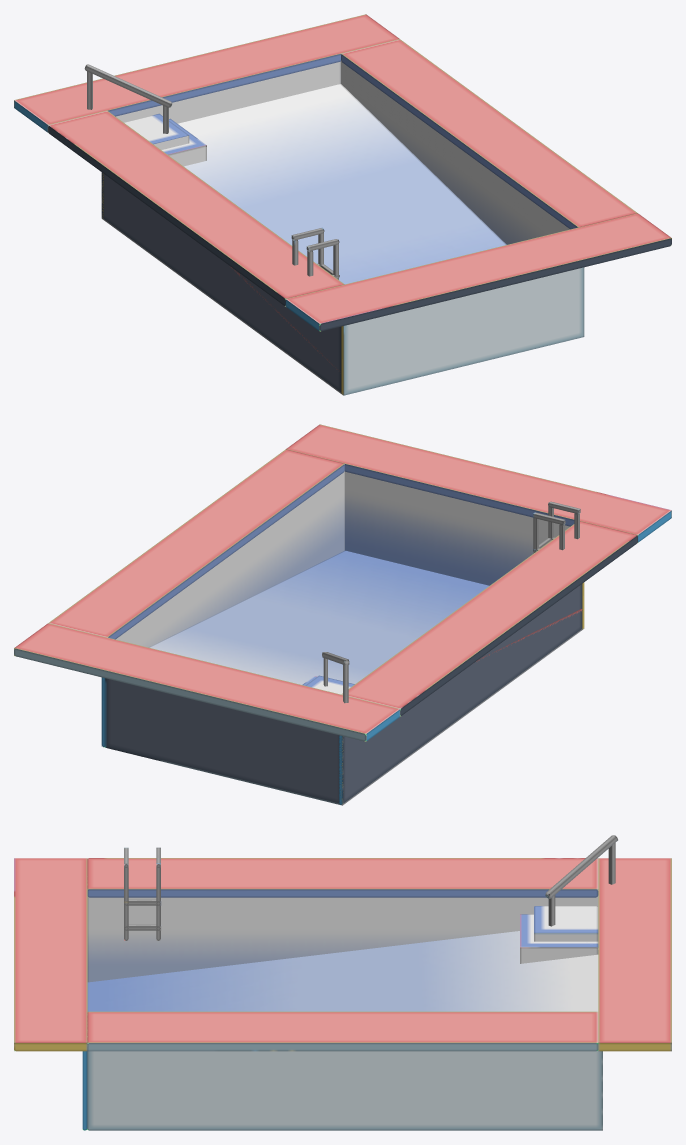
Rendered from Pool.fbx.
3 renders of one model, top to bottom at view 1: azimuth 30°, elevation 25°; view 2: azimuth 150°, elevation 25°; view 3: azimuth 270°, elevation 25°, orthographic. The views are drawn at different scales.
Visible parts, largest first — view 1: cube, cube_4, cube_5, cube_6, cube_8, cube_7, cube_2, cube_1, cube_3, cube_9, cube_10, cube_13; view 2: cube, cube_3, cube_5, cube_6, cube_7, cube_4, cube_8, cube_1, cube_2; view 3: cube_1, cube, cube_2, cube_5, cube_6, cube_8, cube_7, cube_9, cube_10, cube_13, cube_4.
Boxes of the visible parts, <box> form: cube: <box>178,84,506,370</box>; cube_4: <box>341,267,584,395</box>; cube_5: <box>341,39,637,229</box>; cube_6: <box>48,111,344,306</box>; cube_8: <box>285,213,671,331</box>; cube_7: <box>14,14,399,132</box>; cube_2: <box>101,172,341,393</box>; cube_1: <box>341,54,569,244</box>; cube_3: <box>102,61,340,217</box>; cube_9: <box>124,113,189,149</box>; cube_10: <box>161,118,206,166</box>; cube_13: <box>84,64,172,107</box>; cube: <box>148,550,582,684</box>; cube_3: <box>105,678,343,805</box>; cube_5: <box>48,449,344,639</box>; cube_6: <box>341,521,637,716</box>; cube_7: <box>14,623,400,741</box>; cube_4: <box>345,471,584,629</box>; cube_8: <box>286,424,671,542</box>; cube_1: <box>101,464,344,747</box>; cube_2: <box>339,584,582,805</box>; cube_1: <box>87,1050,602,1130</box>; cube: <box>87,931,598,1011</box>; cube_2: <box>87,889,598,982</box>; cube_5: <box>87,1011,598,1051</box>; cube_6: <box>87,858,598,897</box>; cube_8: <box>14,858,87,1051</box>; cube_7: <box>598,858,671,1051</box>; cube_9: <box>534,906,598,948</box>; cube_10: <box>520,914,598,963</box>; cube_13: <box>545,835,617,898</box>; cube_4: <box>82,1051,87,1130</box>.
Bounding box in the file's own units: 148 × 61.33 × 223.
1 material, 1 textured.
